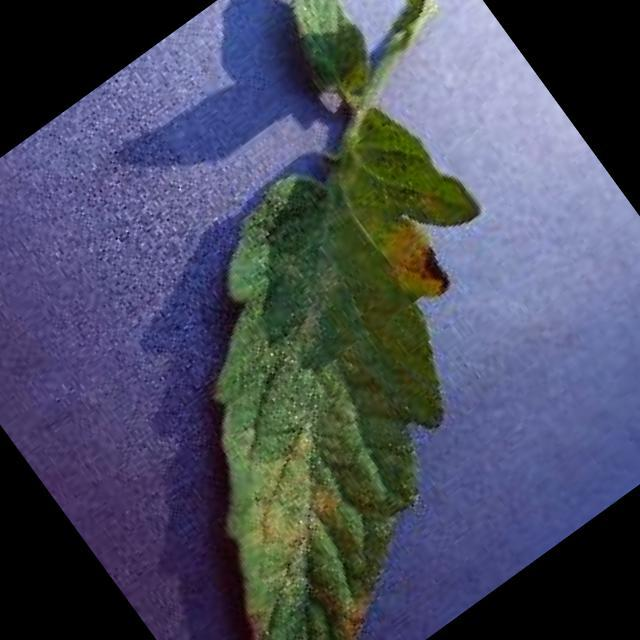Tomato mold leaf: (0, 91, 640, 640)
